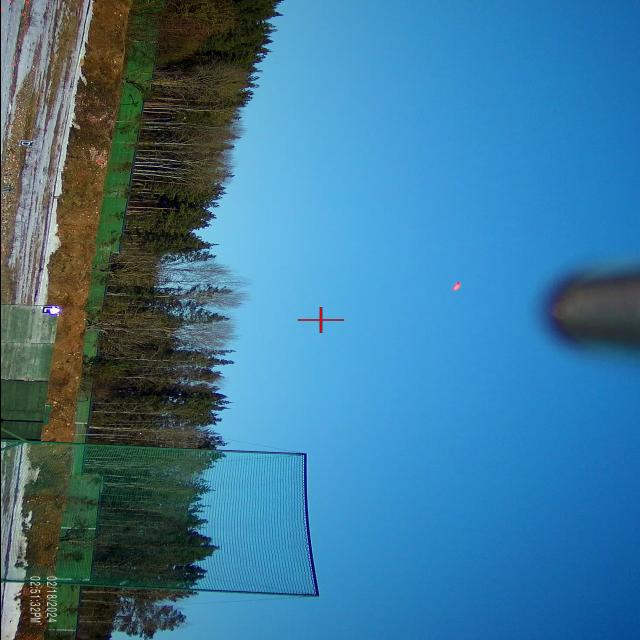entire: (448, 278, 466, 294)
